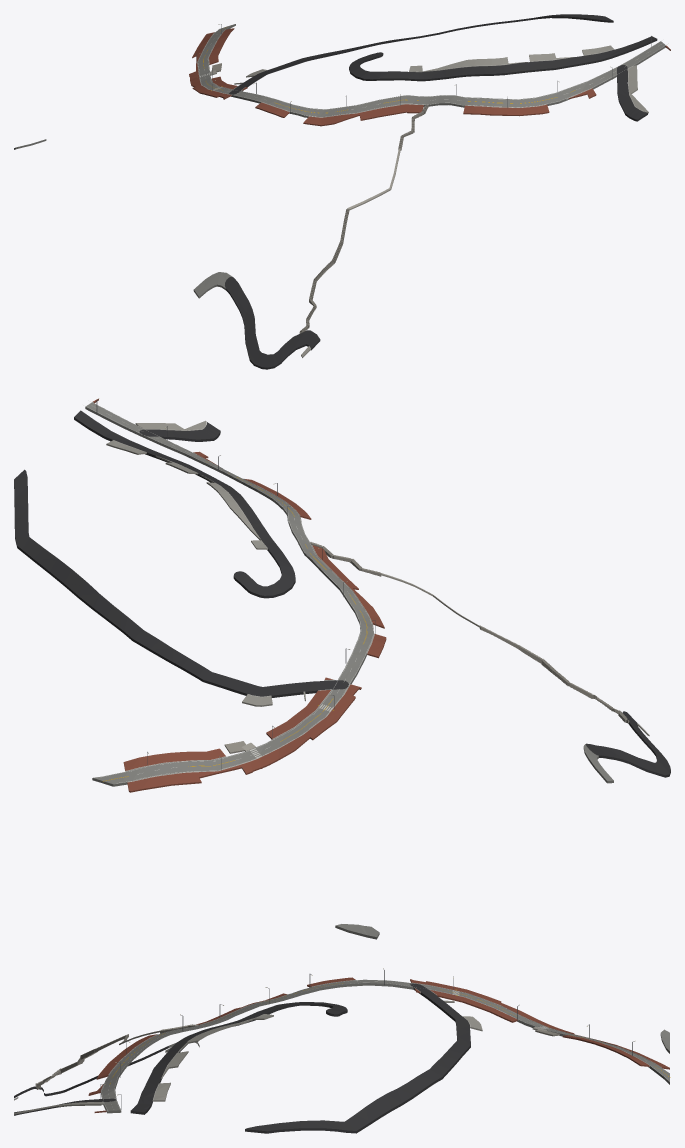
Rendered from 17-109419-59472.e06ebce6.glb.
The picture shows the model from 3 angles, top to bottom: view 1: azimuth 30°, elevation 25°; view 2: azimuth 150°, elevation 25°; view 3: azimuth 270°, elevation 25°; orthographic projection. The views are drawn at different scales.
Size of the model in its own units: 296 by 135 by 292.
